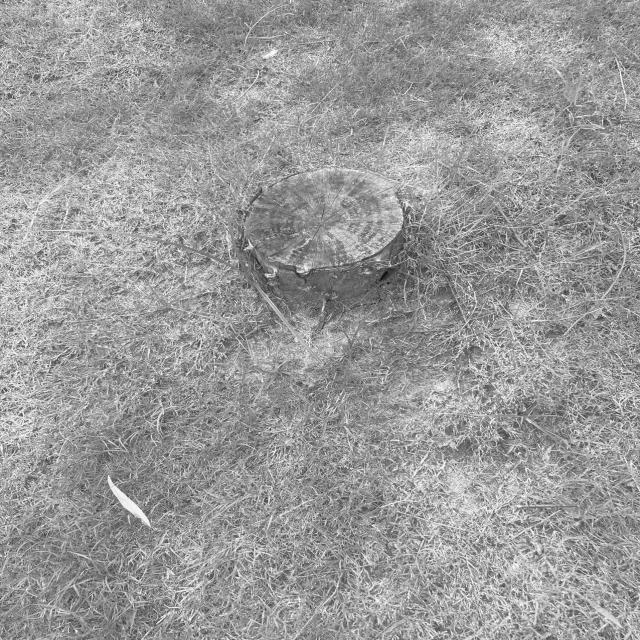Stone: (250, 167, 404, 275)
